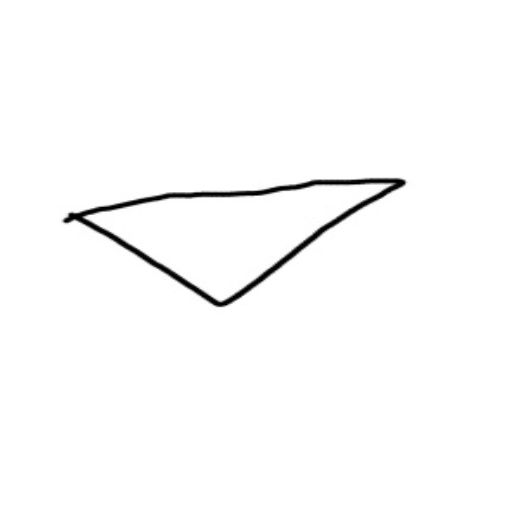triangle: (56, 176, 412, 315)
